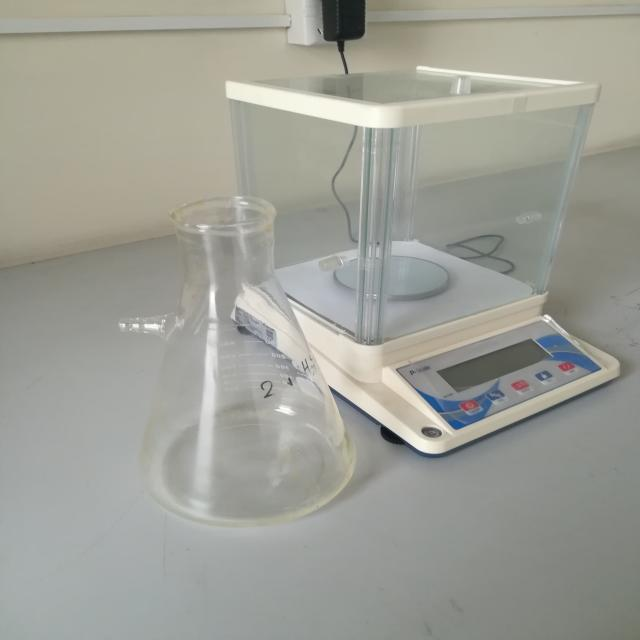Conical_Flask: (87, 142, 400, 554)
